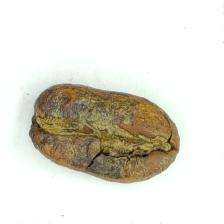NG: (33, 85, 175, 181)
